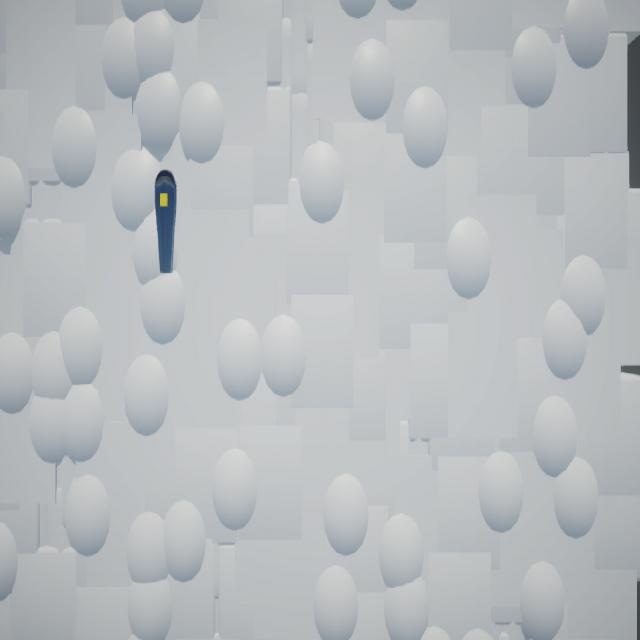handle_knife: (156, 170, 178, 275)
